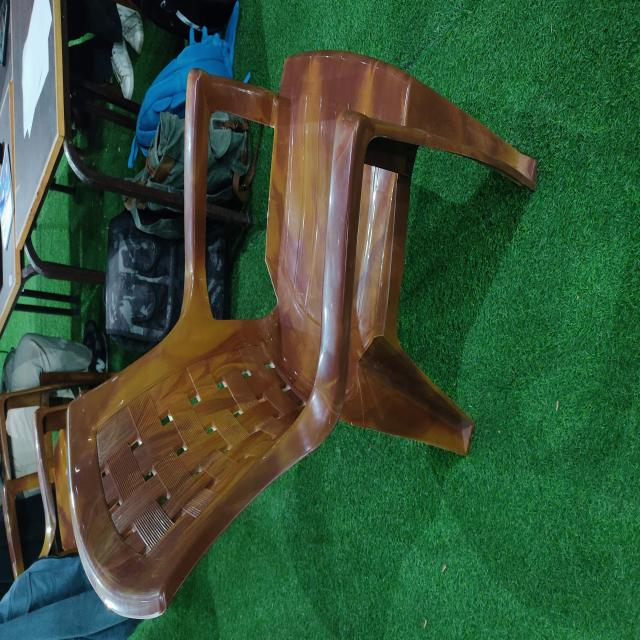Chair: (32, 49, 537, 620)
